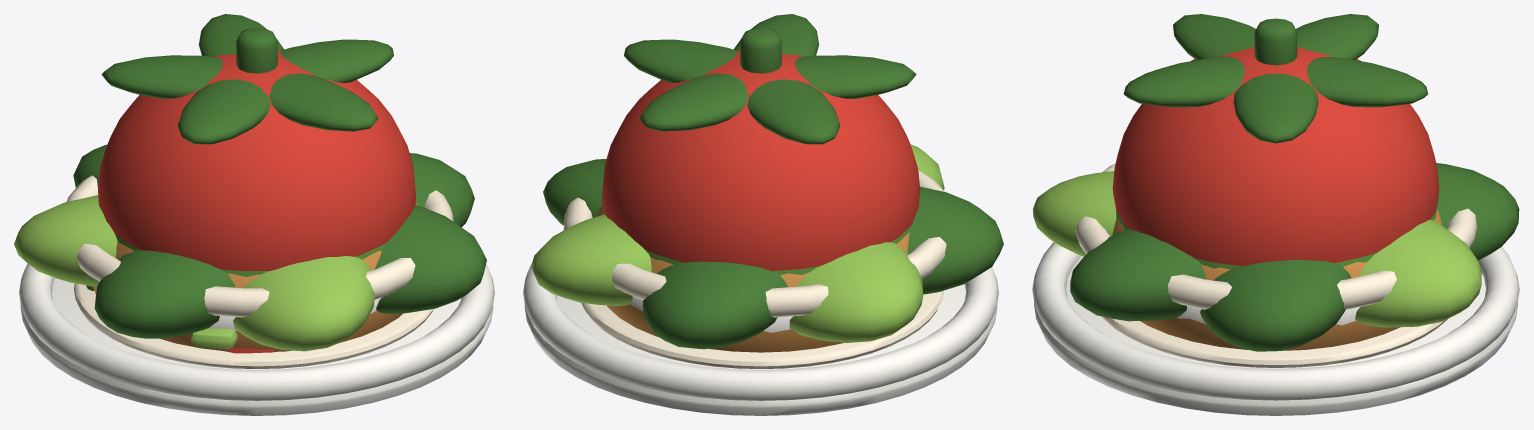
Rendered from food.glb.
The picture shows the model from 3 angles, left to right: view 1: azimuth 30°, elevation 25°; view 2: azimuth 150°, elevation 25°; view 3: azimuth 270°, elevation 25°; orthographic projection. The views are drawn at different scales.
Parts seen in each view (by area): view 1: Tomato, Lettuce, Plate, Bowl, Bun, LettuceChopped; view 2: Tomato, Lettuce, Plate, Bowl, Bun; view 3: Tomato, Lettuce, Plate, Bowl, Bun.
Part boxes in pixels (x1,y1,x2,y2): Tomato: [98, 14, 415, 271]; Lettuce: [14, 144, 486, 351]; Plate: [19, 263, 494, 415]; Bowl: [66, 175, 453, 331]; Bun: [93, 201, 417, 351]; LettuceChopped: [86, 285, 237, 349]; Tomato: [602, 14, 919, 271]; Lettuce: [531, 144, 1003, 349]; Plate: [523, 262, 998, 415]; Bowl: [563, 170, 946, 332]; Bun: [597, 204, 909, 352]; Tomato: [1112, 14, 1439, 266]; Lettuce: [1032, 163, 1519, 351]; Plate: [1032, 242, 1519, 415]; Bowl: [1075, 163, 1477, 325]; Bun: [1112, 208, 1441, 350].
Bounding box in the file's own units: 0.8155 × 0.6138 × 0.806.
